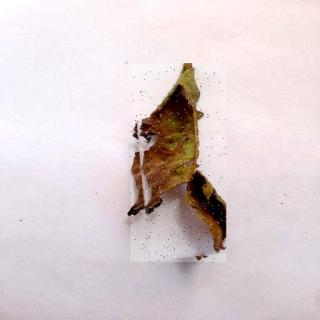Algal Leaf: (132, 65, 227, 264)
